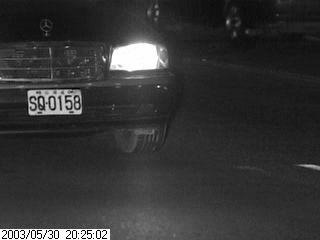plate: (26, 87, 84, 115)
